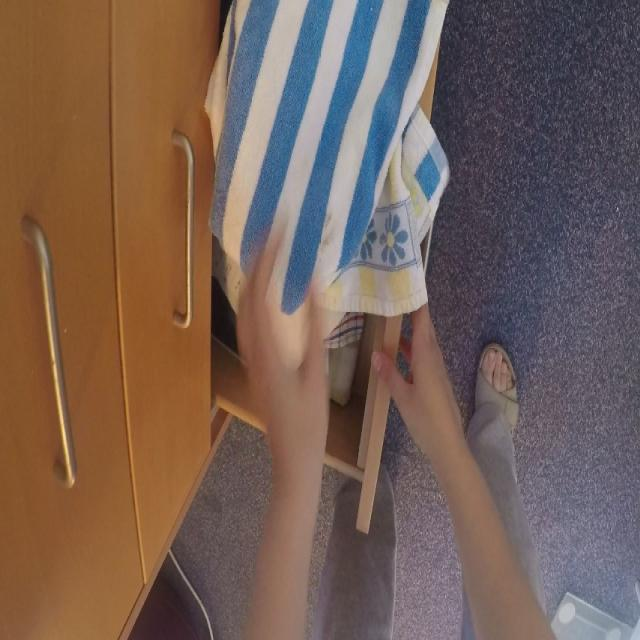drawer: (0, 2, 216, 614)
left hand: (237, 217, 333, 545)
right hand: (371, 309, 471, 509)
towel: (218, 0, 447, 328)
